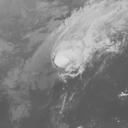cyclone: (50, 31, 97, 72)
